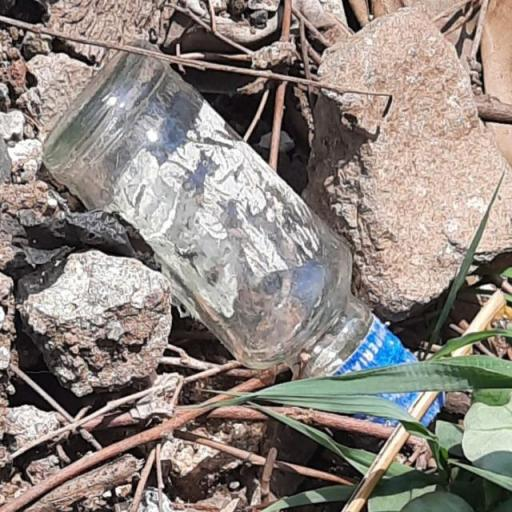glass: (31, 34, 458, 432)
